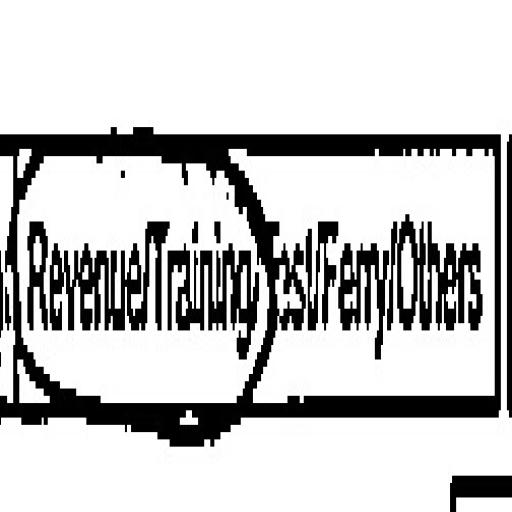check: (17, 80, 147, 504), (148, 121, 266, 512)
